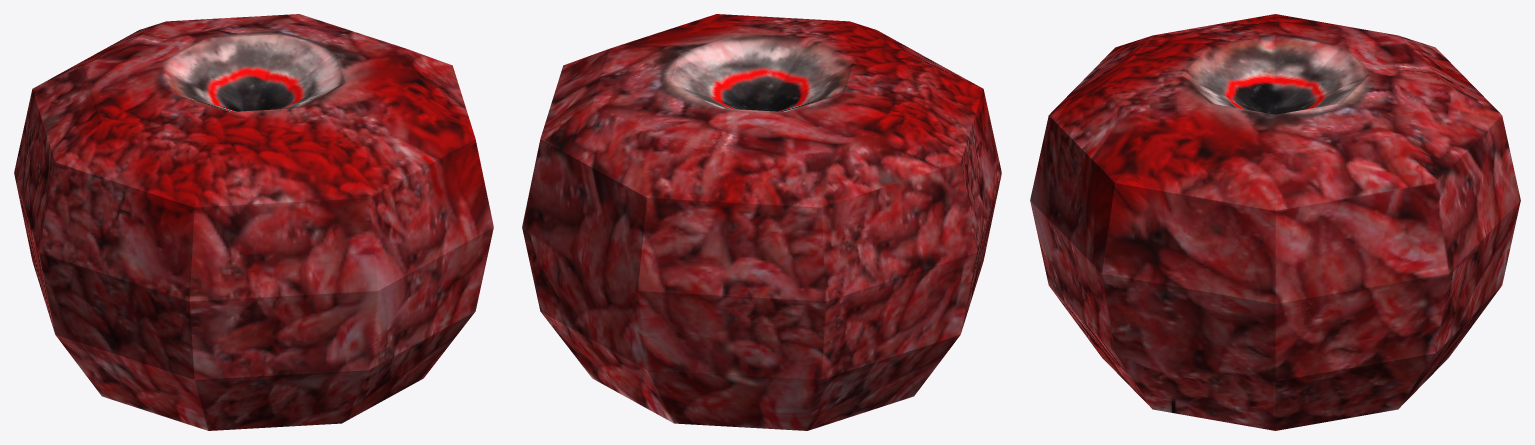
File: Detached_Bomb.fbx
3 views of the same model, side by side, from view 1: azimuth 30°, elevation 25°; view 2: azimuth 150°, elevation 25°; view 3: azimuth 270°, elevation 25° (orthographic).
Parts seen in each view (by area): view 1: Bomb_Carried; view 2: Bomb_Carried; view 3: Bomb_Carried.
Boxes of the visible parts, box(x1,y1,x2,y2) form: Bomb_Carried: box(14, 14, 493, 430); Bomb_Carried: box(522, 14, 1001, 430); Bomb_Carried: box(1030, 14, 1520, 430).
Bounding box in the file's own units: 54.2 × 34.43 × 54.2.
